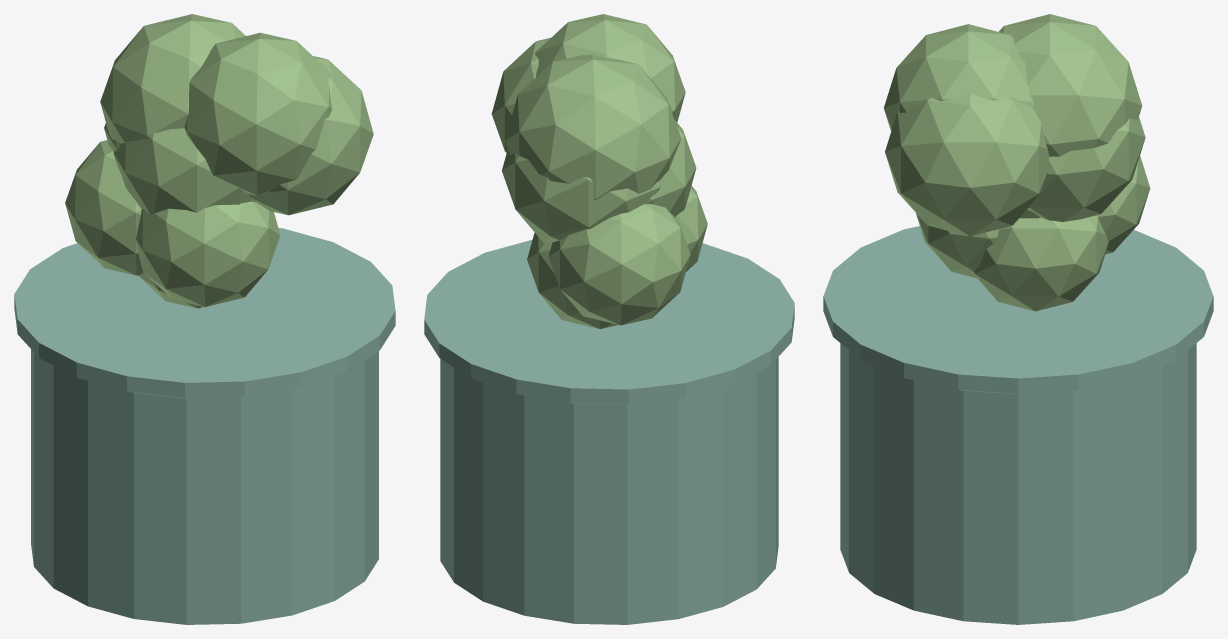
File: planter.glb
3 renders of one model, left to right at view 1: azimuth 30°, elevation 25°; view 2: azimuth 150°, elevation 25°; view 3: azimuth 270°, elevation 25°, orthographic. The views are drawn at different scales.
Parts seen in each view (by area): view 1: planter_terrazzo_g, planter_leaf; view 2: planter_terrazzo_g, planter_leaf; view 3: planter_terrazzo_g, planter_leaf.
Part boxes in pixels (x1,y1,x2,y2): planter_terrazzo_g: (14,228,395,624); planter_leaf: (65,14,373,308); planter_terrazzo_g: (424,239,794,624); planter_leaf: (491,14,707,329); planter_terrazzo_g: (823,226,1213,624); planter_leaf: (884,14,1150,311).
Size of the model in its own units: 0.92 by 1.39 by 0.92.
